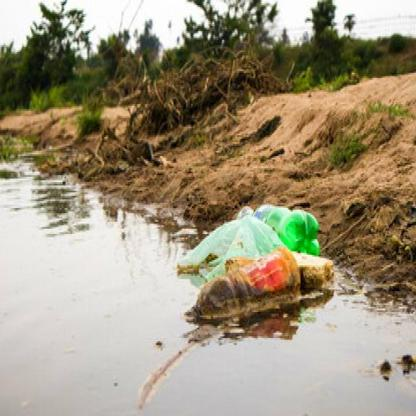plastic bottle: (188, 249, 300, 311), (247, 201, 319, 259)
